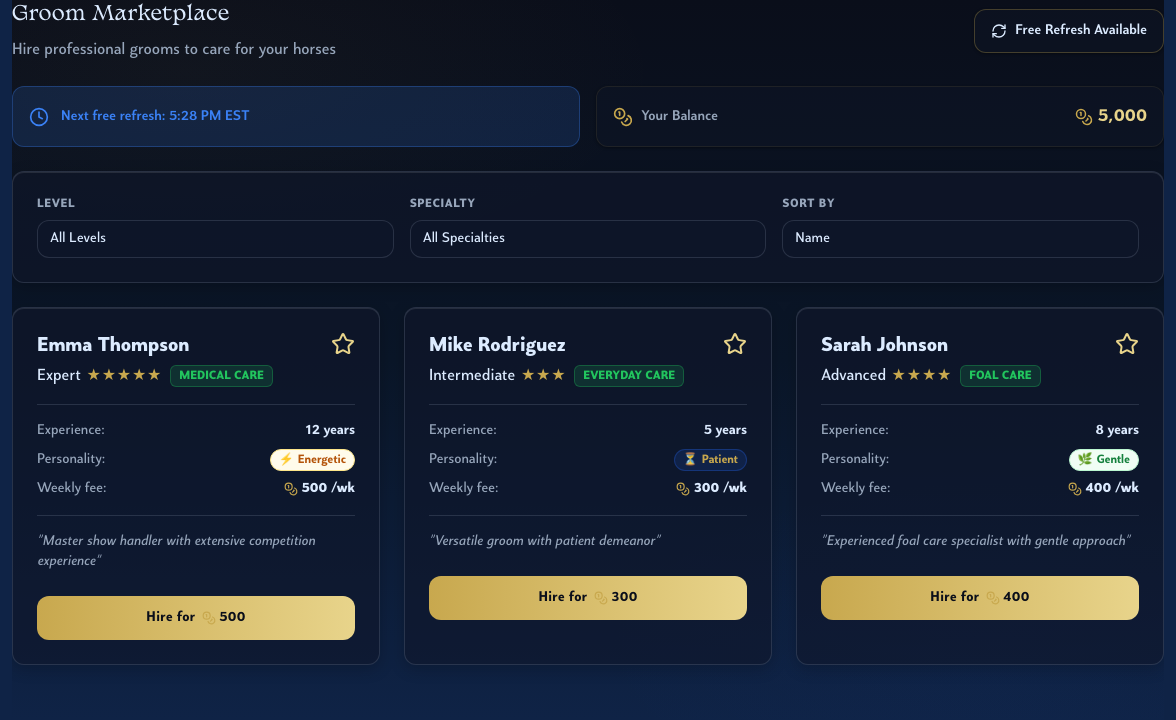
Test: GroomList Component › Filtering and Sorting › filters grooms by specialty
Select "Medical" in the dropdown with test id "specialty-filter" at (588,239), box [410,220,766,258]
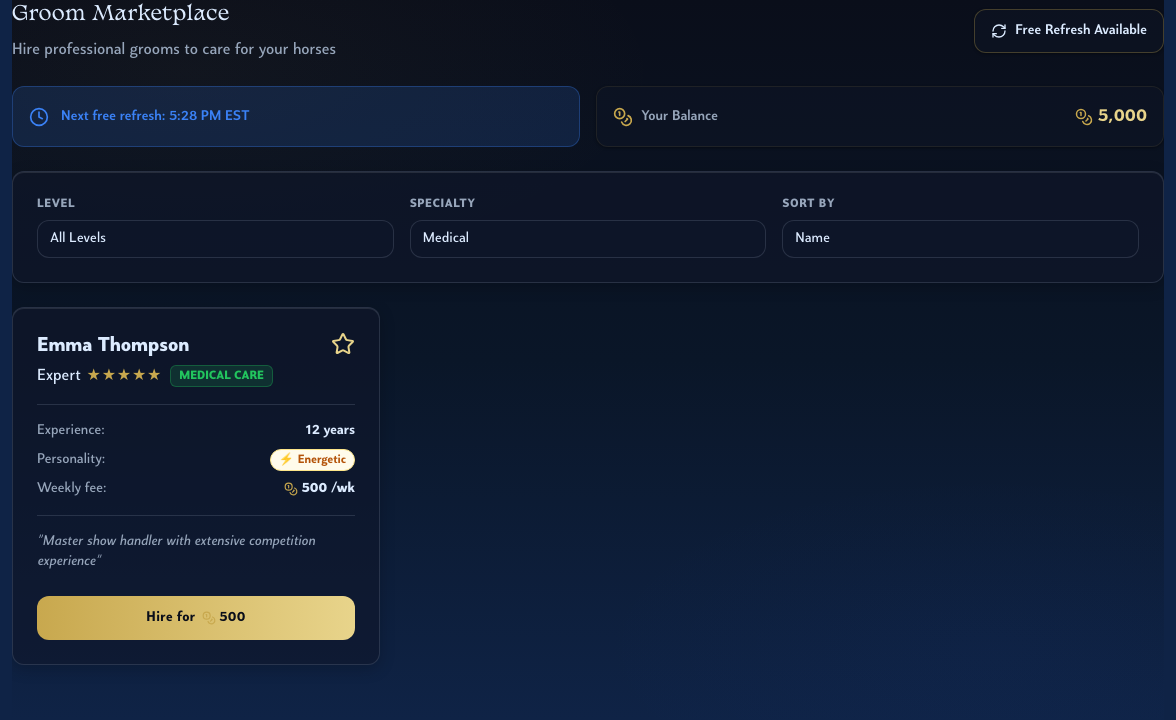
Expected: the heading "Emma Thompson" is shown, [37,336,189,356]
Expected: the heading "Sarah Johnson" is gone
